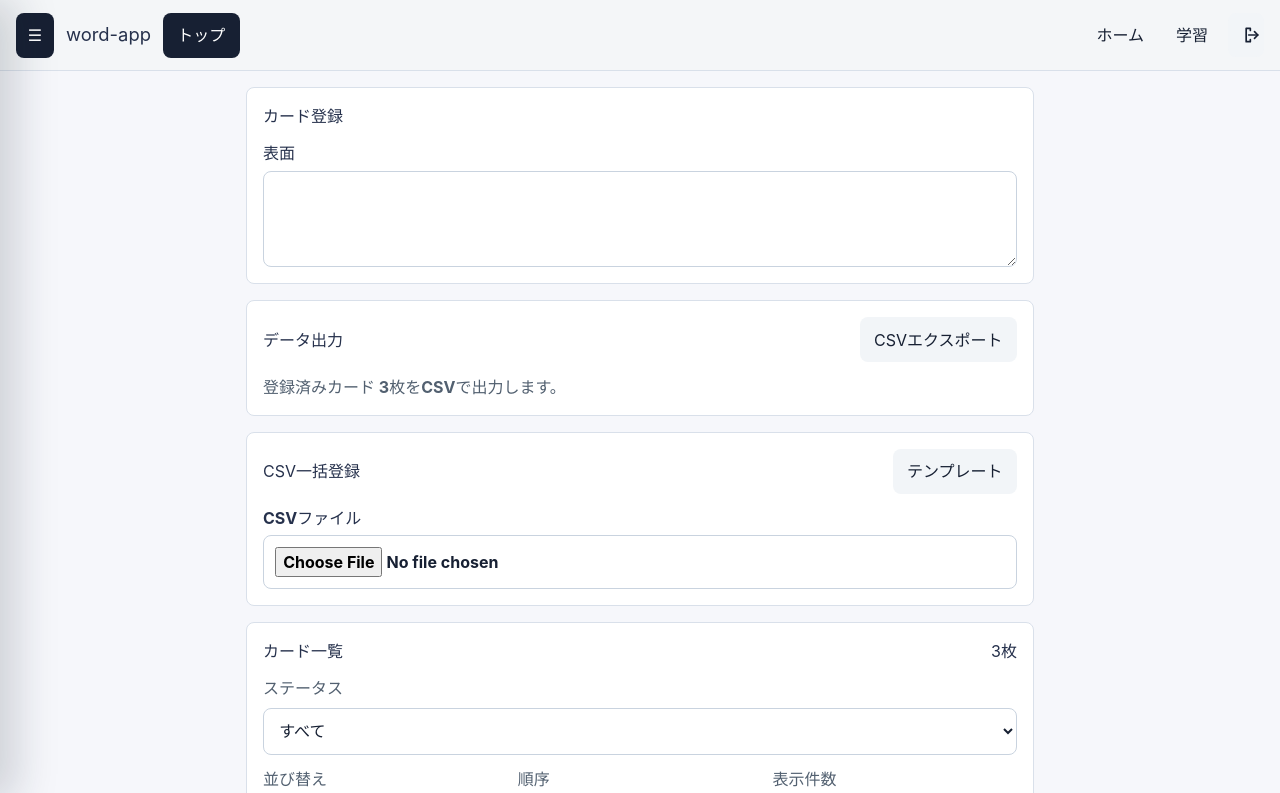
Test: App › moves to the registered card directory after creating a card
Type "Apple" into the text box labelled "表面" at (640,219), box [263,171,1017,267]
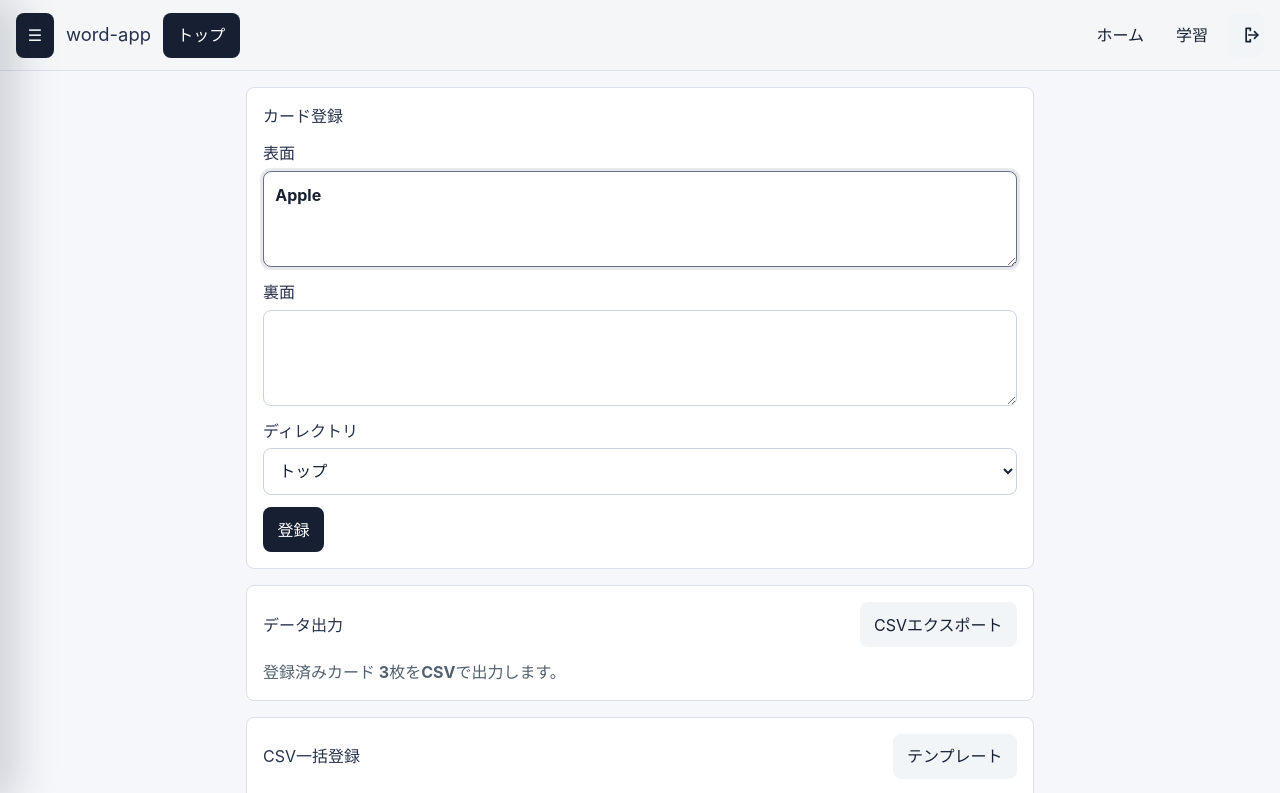
Type "りんご" into the text box labelled "裏面" at (640,358), box [263,310,1017,406]
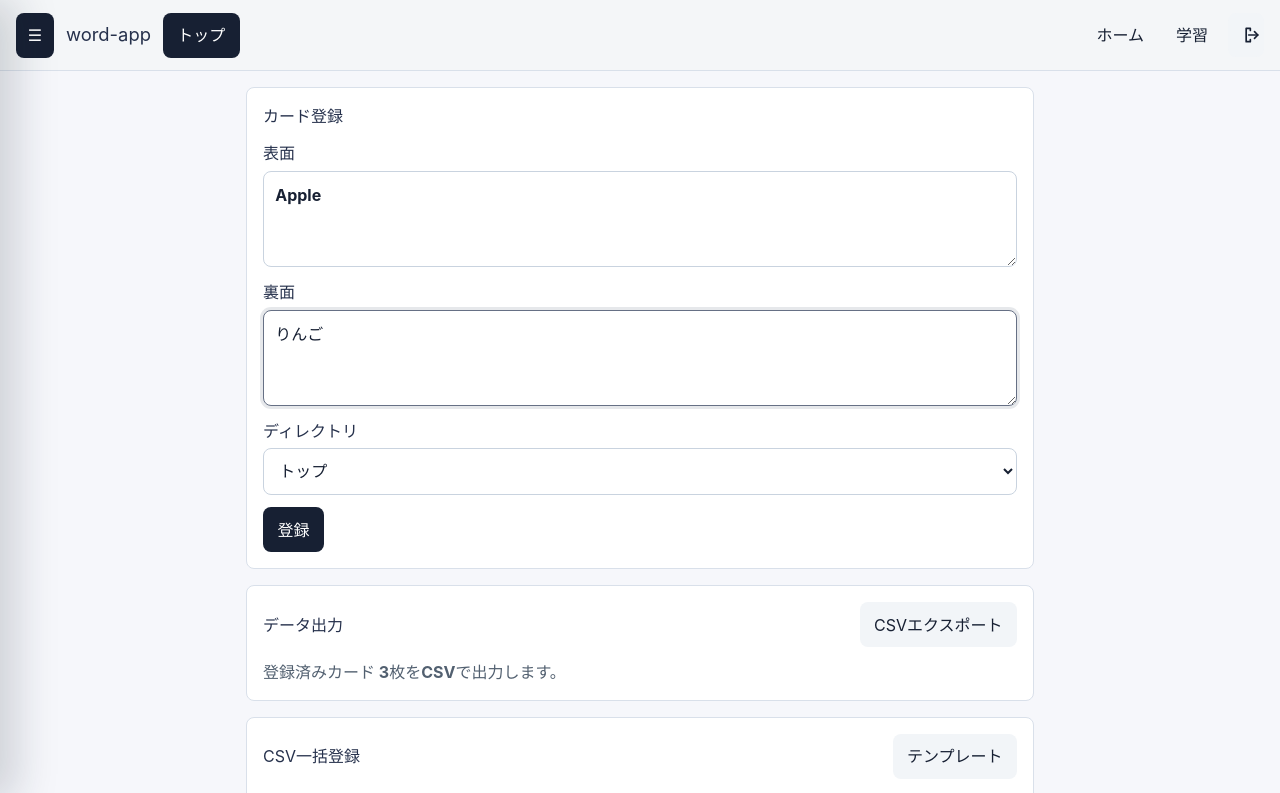
Select "英単語" in the dropdown labelled "ディレクトリ" at (640,472), box [263,448,1017,495]
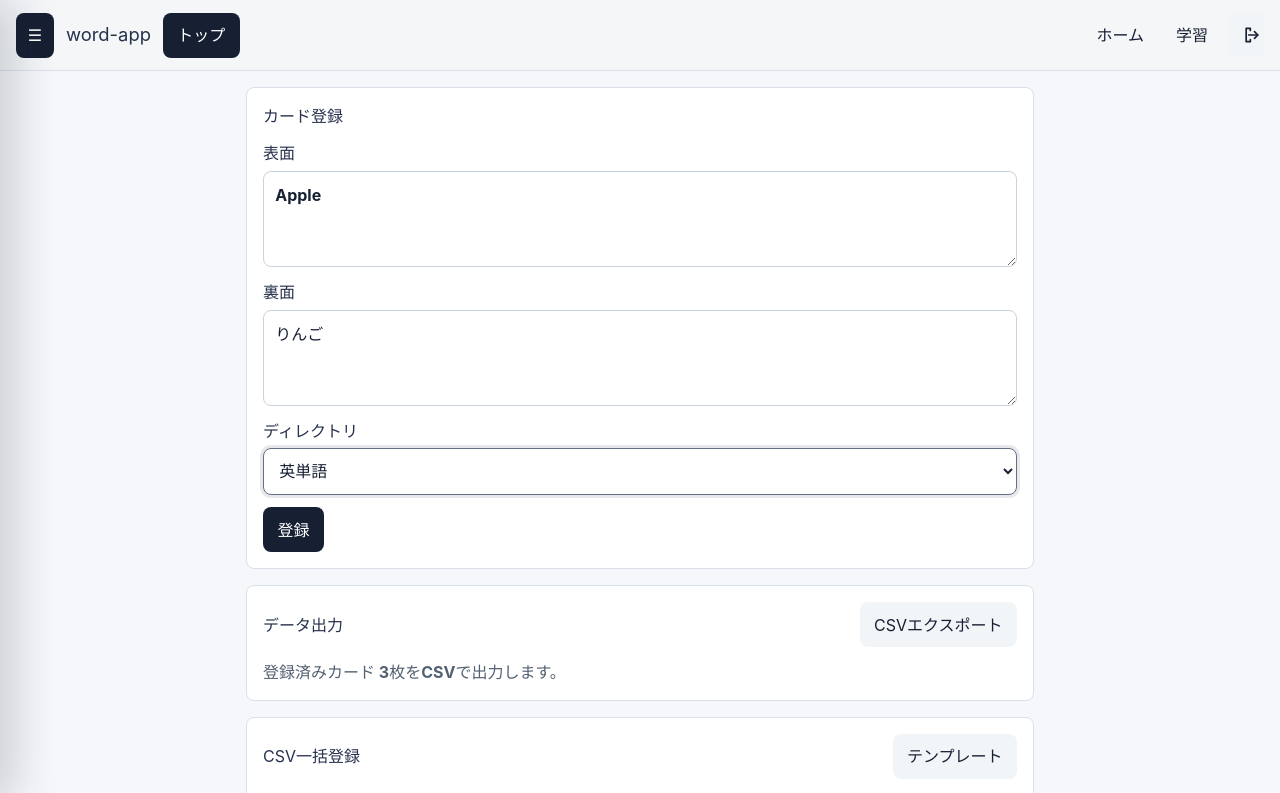
Click the button "登録" at (293,530), box [263,508,324,552]
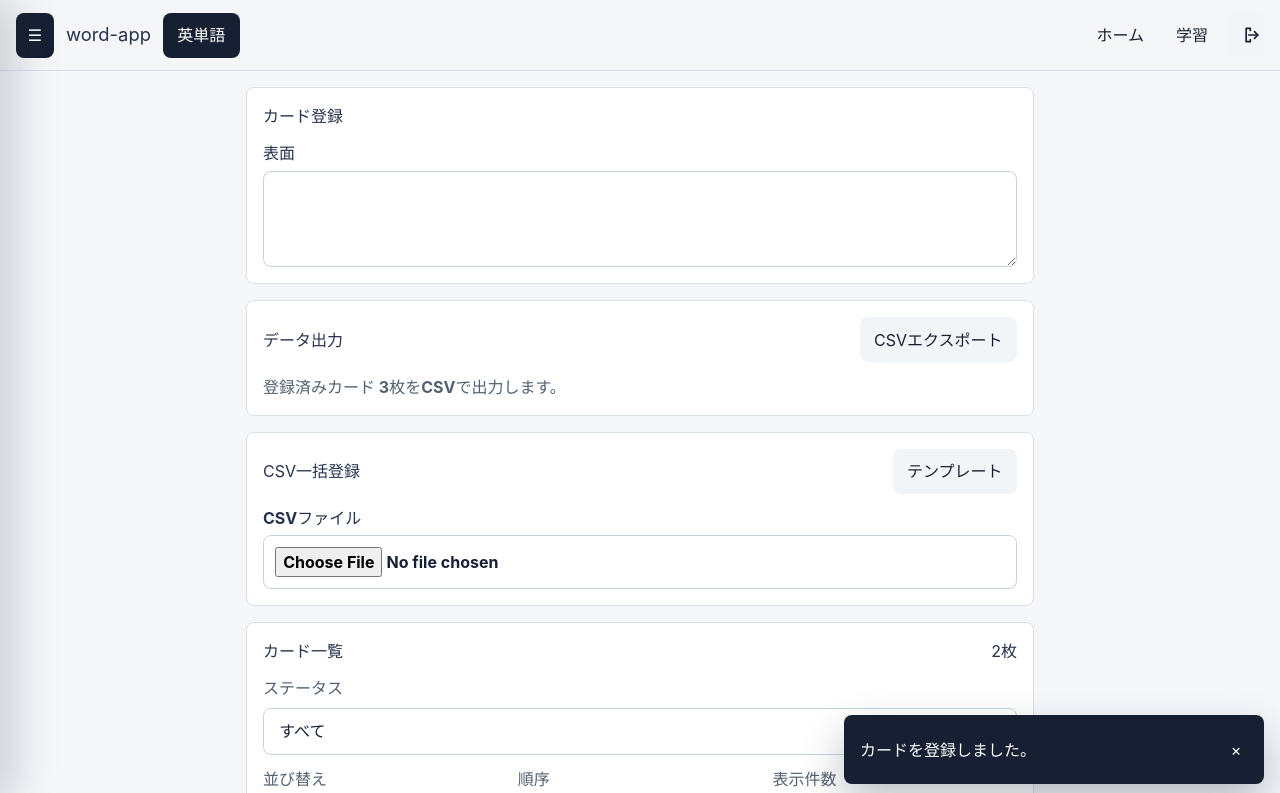
Result: the element named "現在のディレクトリ" reads "英単語" at [163,13,240,58]
